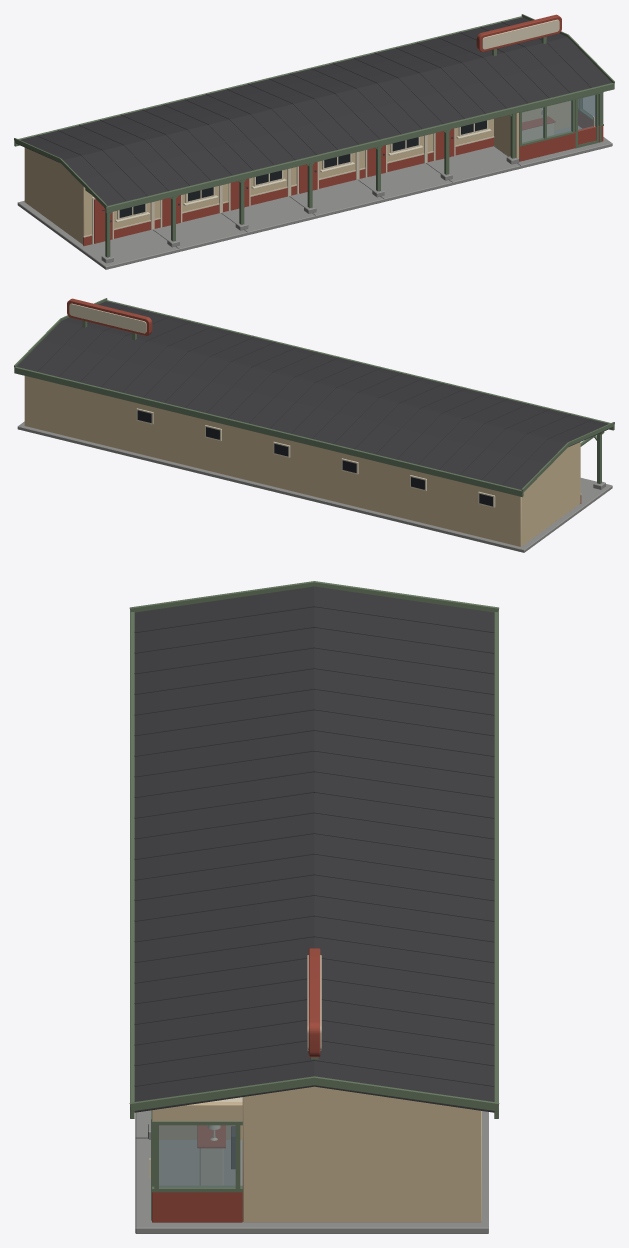
The model's file is Motel.fbx.
3 views of the same model, one above another, from view 1: azimuth 30°, elevation 25°; view 2: azimuth 150°, elevation 25°; view 3: azimuth 270°, elevation 25° (orthographic). The views are drawn at different scales.
Visible parts, largest first — view 1: Motel_Mesh; view 2: Motel_Mesh; view 3: Motel_Mesh.
Boxes of the visible parts, <box> form: Motel_Mesh: <box>14,14,614,269</box>; Motel_Mesh: <box>14,298,614,552</box>; Motel_Mesh: <box>129,581,499,1233</box>.
Bounding box in the file's own units: 24.58 × 4.65 × 7.73.
